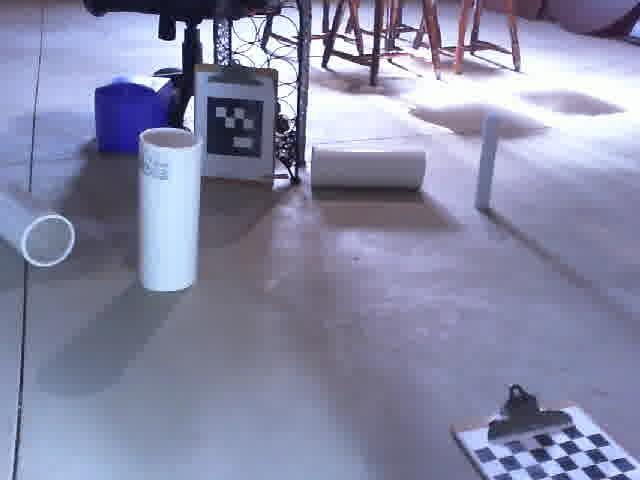coral: (135, 126, 205, 294), (0, 175, 78, 270), (303, 145, 431, 193)
